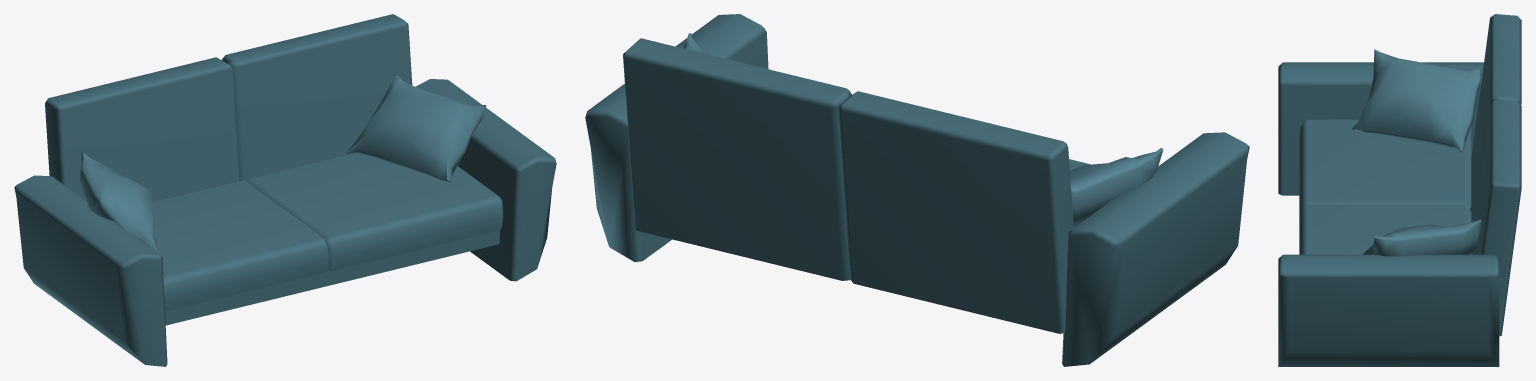
The model's file is sofa.glb.
3 views of the same model, side by side, from view 1: azimuth 30°, elevation 25°; view 2: azimuth 150°, elevation 25°; view 3: azimuth 270°, elevation 25° (orthographic). The views are drawn at different scales.
Parts seen in each view (by area): view 1: sofa_001; view 2: sofa_001; view 3: sofa_001.
Part boxes in pixels (x1,y1,x2,y2): sofa_001: (14,14,556,366); sofa_001: (585,14,1249,366); sofa_001: (1278,14,1521,366).
Size of the model in its own units: 1.97 by 0.779 by 0.9491.
Materials: 1 (1 with a texture image).
